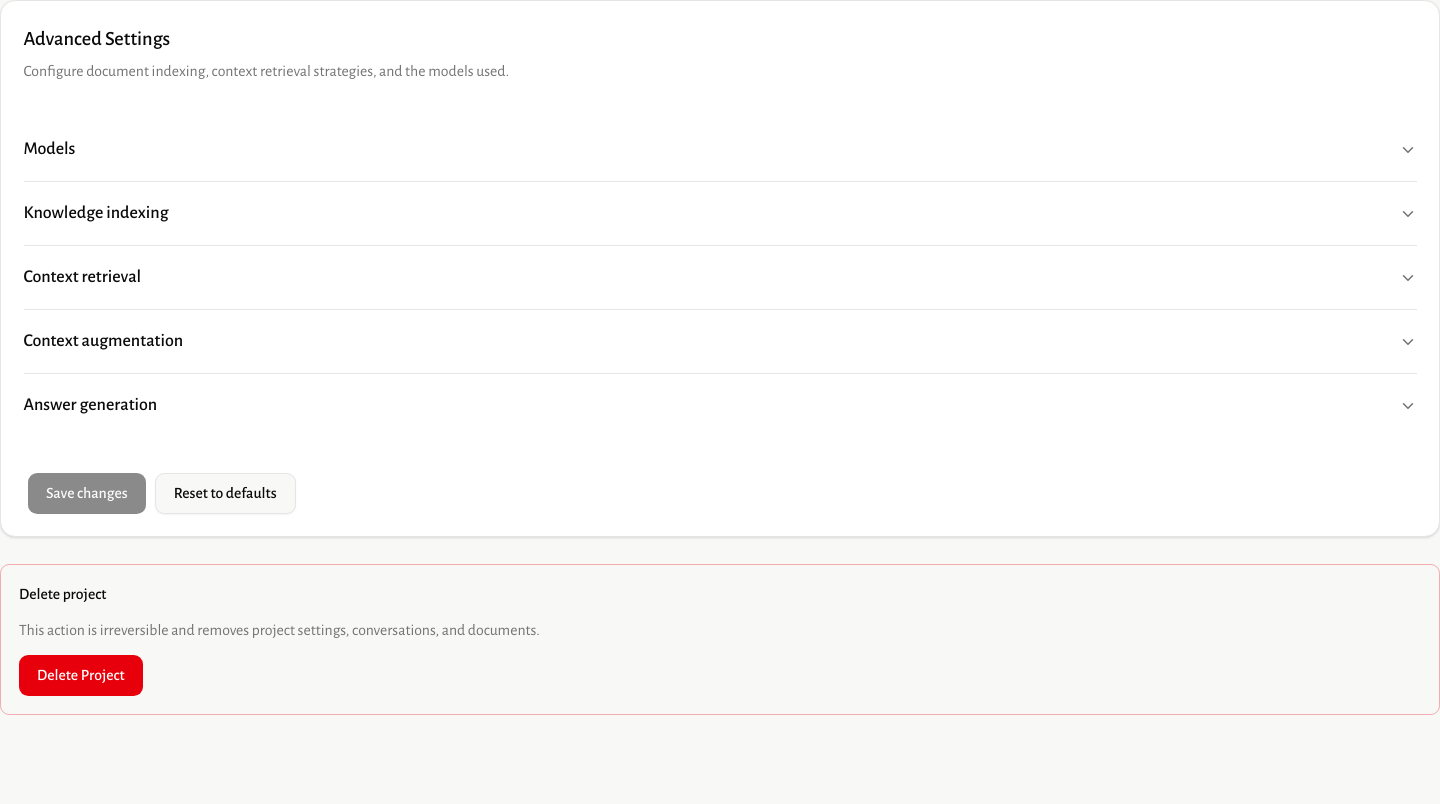
ProjectAdvancedPanel – field values inheritance › Retrieval — Top-K input › shows project top-k and ignores user default
What coordinates should you click on to do the following:
click the button "Context retrieval"
I would click on:
 (82, 277)
Its box is [24,246,1416,309].
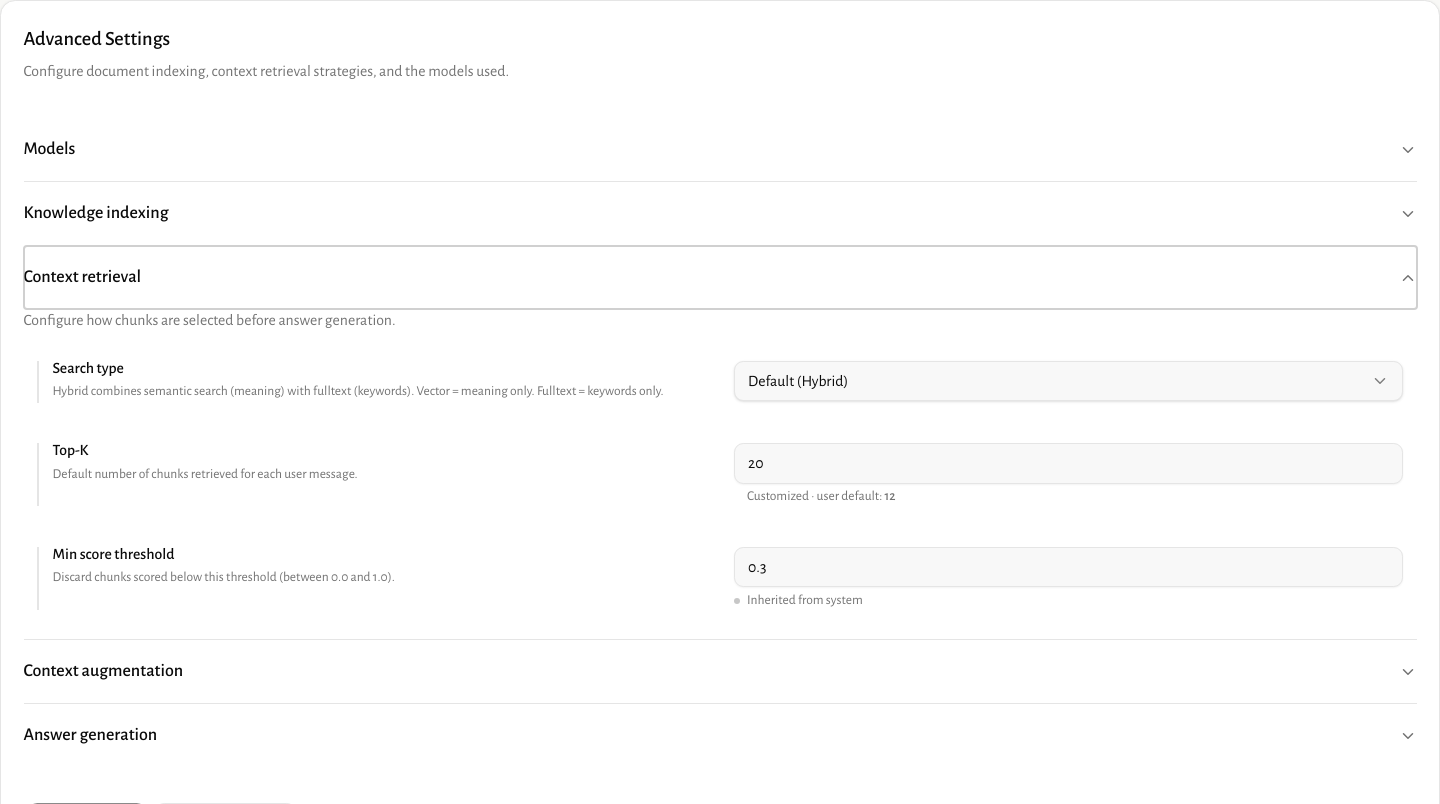
Now the number field labelled "Top-K" holds "20", box [734,443,1403,484]
